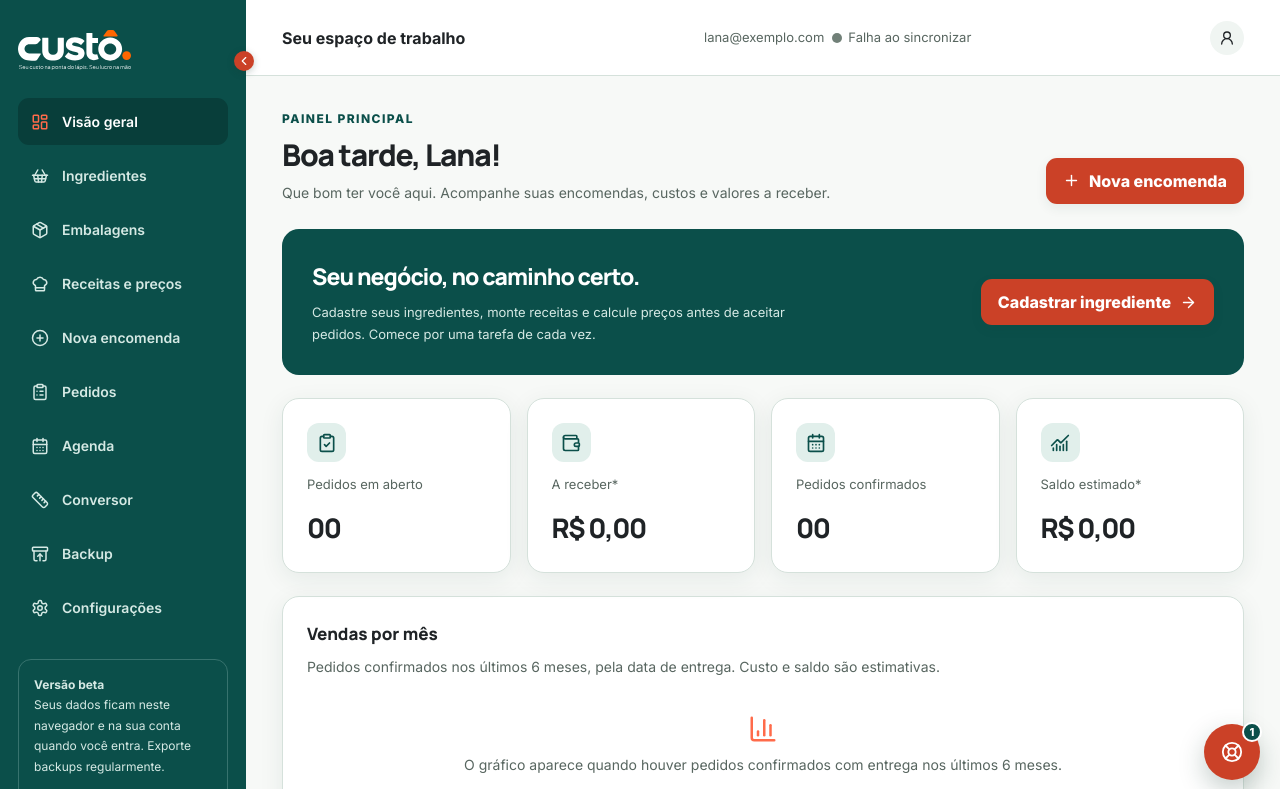
Scenario: botão de suporte › resposta nova da equipe aparece no botão e é marcada como lida ao abrir
Click the button named "Suporte (1 resposta nova)": (1232, 752) [1204,724,1260,780]
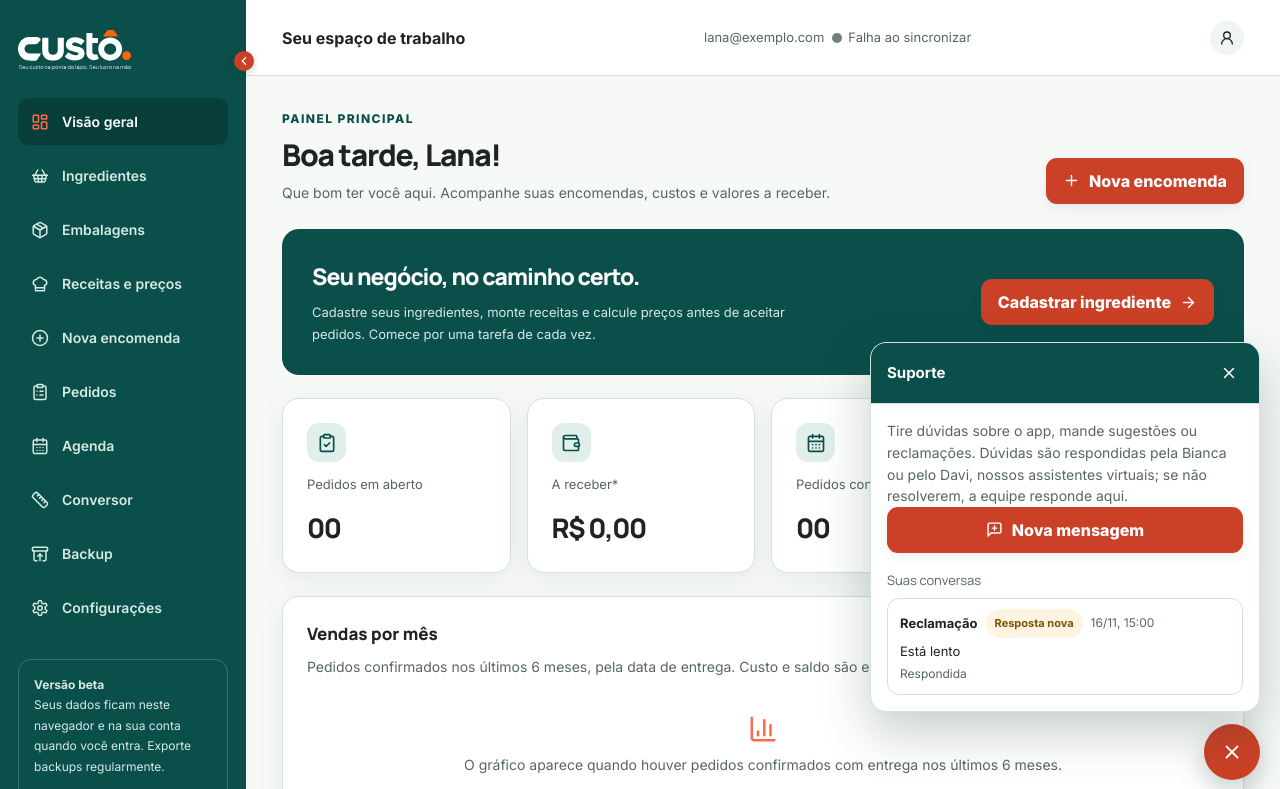
Click the button "Reclamação Resposta nova 16/11, 15:00 Está lento Respondida": (939, 623) [887,598,1243,695]
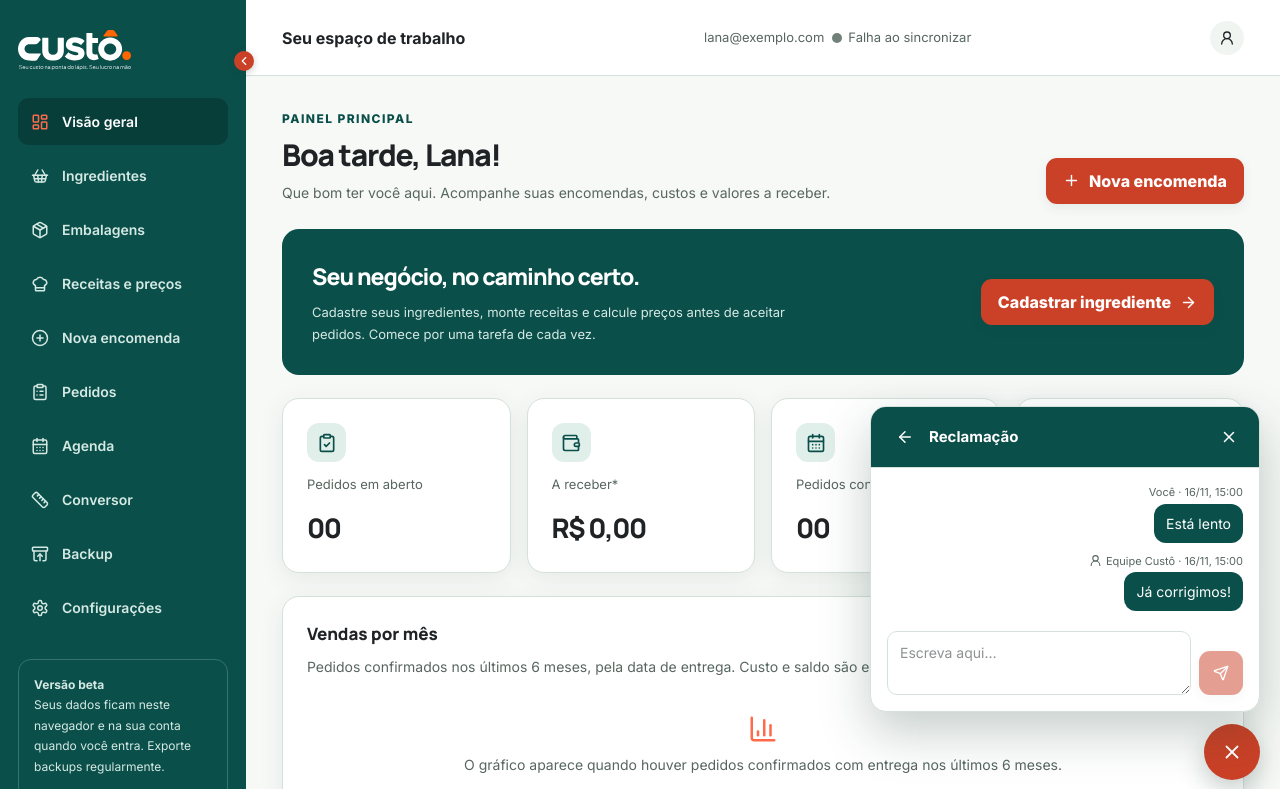
expect the text "Já corrigimos!" is shown: met, box [1124,572,1243,611]
